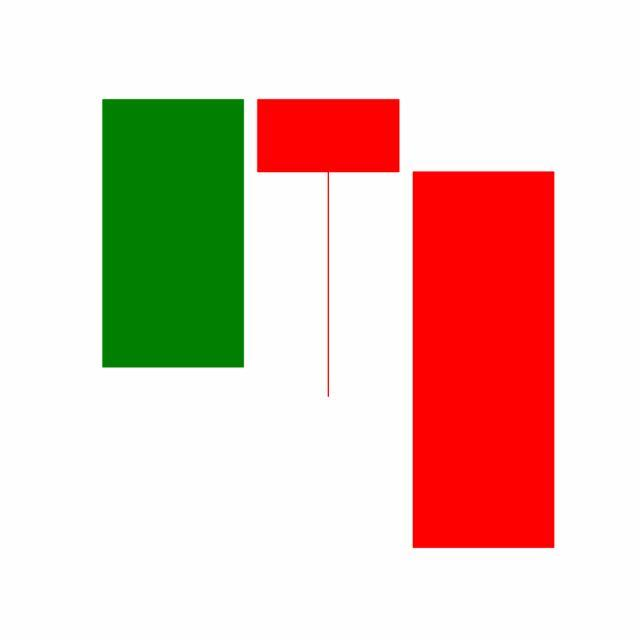Marubozu: (406, 167, 562, 552)
